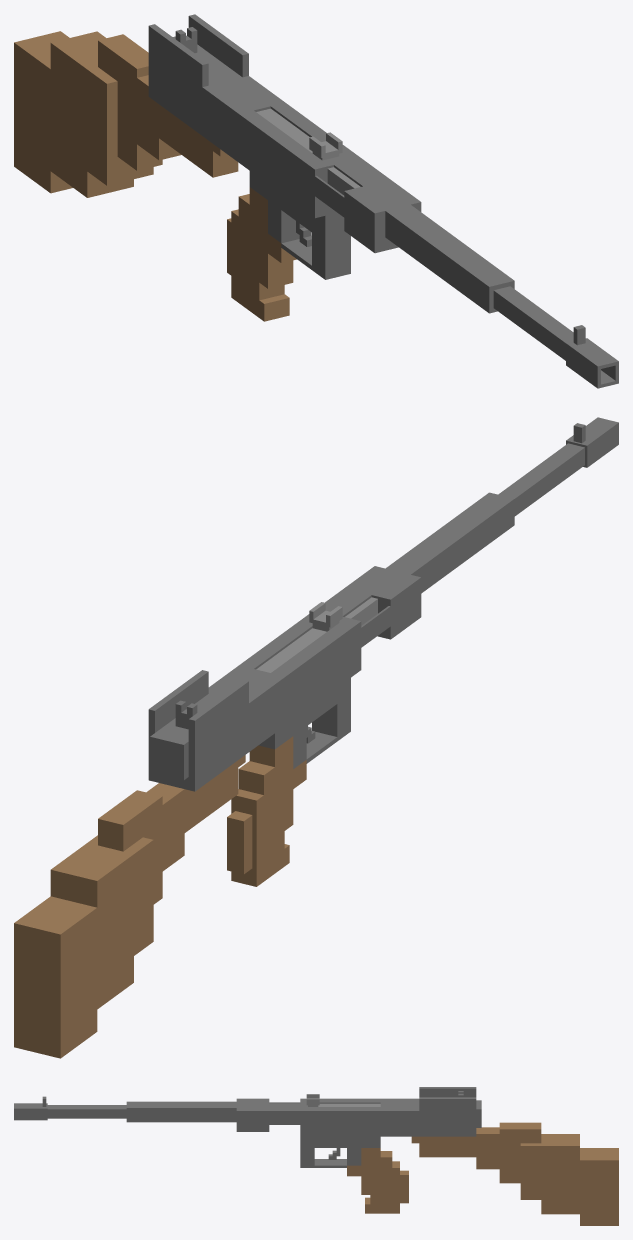
File: gangster_submachine_gun.fbx
3 views of the same model, one above another, from view 1: azimuth 30°, elevation 25°; view 2: azimuth 150°, elevation 25°; view 3: azimuth 270°, elevation 25° (orthographic). The views are drawn at different scales.
Visible parts, largest first — view 1: gangster_submachine_gun_base, gangster_submachine_gun_bolt; view 2: gangster_submachine_gun_base, gangster_submachine_gun_bolt; view 3: gangster_submachine_gun_base, gangster_submachine_gun_bolt.
Part boxes in pixels (left/top/right/bottom): gangster_submachine_gun_base: left=14, top=14, right=618, bottom=388; gangster_submachine_gun_bolt: left=256, top=108, right=360, bottom=195; gangster_submachine_gun_base: left=14, top=417, right=618, bottom=1058; gangster_submachine_gun_bolt: left=256, top=597, right=377, bottom=672; gangster_submachine_gun_base: left=14, top=1087, right=618, bottom=1225; gangster_submachine_gun_bolt: left=269, top=1094, right=380, bottom=1106.
Bounding box in the file's own units: 6.6 × 32.4 × 140.
